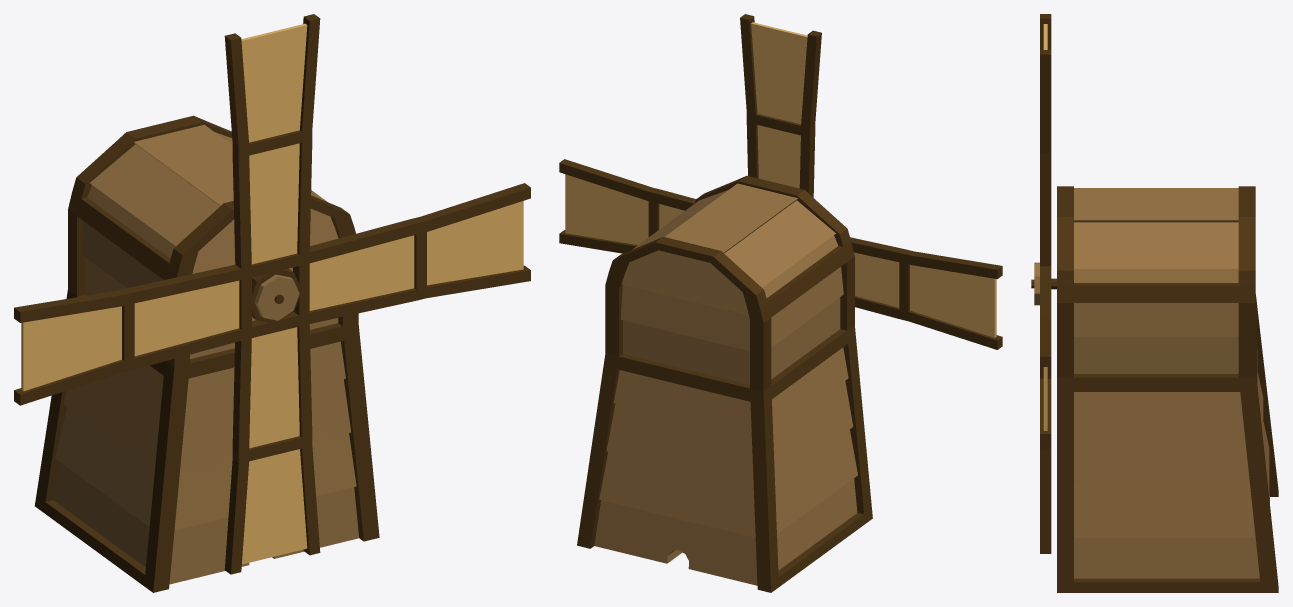
File: Windmill.fbx
3 renders of one model, left to right at view 1: azimuth 30°, elevation 25°; view 2: azimuth 150°, elevation 25°; view 3: azimuth 270°, elevation 25°, orthographic. The views are drawn at different scales.
Visible parts, largest first — view 1: Blades, Windmill; view 2: Windmill, Blades; view 3: Windmill, Blades.
Boxes of the visible parts, x1,y1,x2,y2 form: Blades: (14,14,530,574); Windmill: (34,115,379,592); Windmill: (577,176,872,592); Blades: (559,14,1002,349); Windmill: (1057,186,1278,592); Blades: (1031,14,1056,553).
Bounding box in the file's own units: 194 × 197 × 87.
